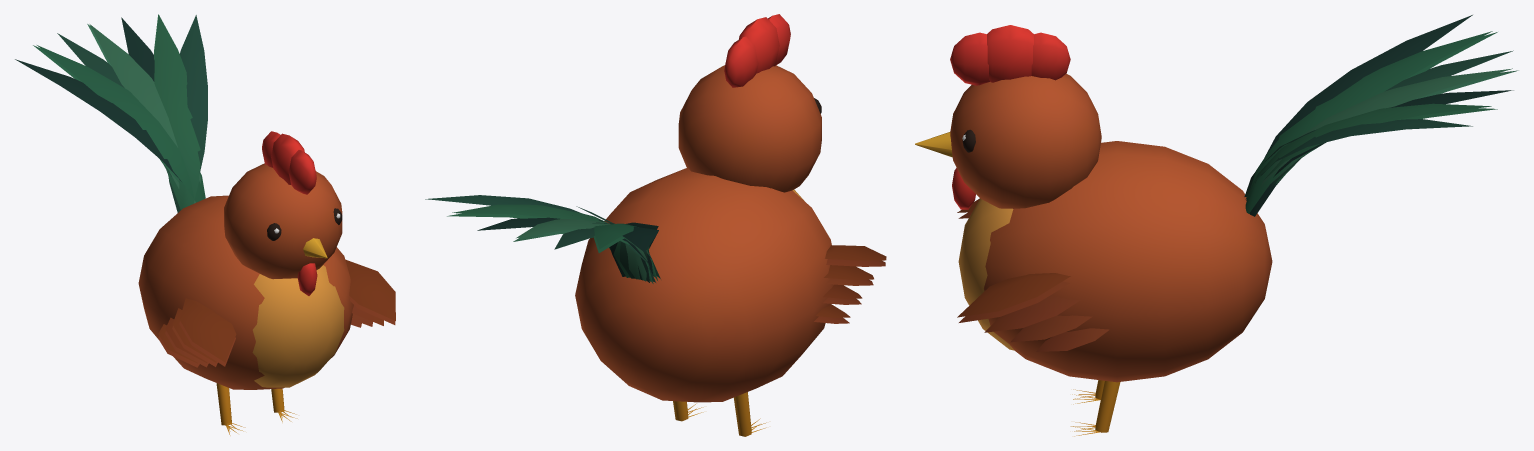
The model's file is flock-rooster.glb.
3 renders of one model, left to right at view 1: azimuth 30°, elevation 25°; view 2: azimuth 150°, elevation 25°; view 3: azimuth 270°, elevation 25°, orthographic. The views are drawn at different scales.
Visible parts, largest first — view 1: flock-rooster; view 2: flock-rooster; view 3: flock-rooster.
Boxes of the visible parts, bbox=[...] form: flock-rooster: bbox=[15, 14, 395, 435]; flock-rooster: bbox=[425, 14, 886, 436]; flock-rooster: bbox=[915, 15, 1518, 436].
Bounding box in the file's own units: 0.4342 × 0.6335 × 0.8888.
